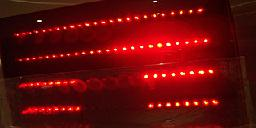LED: (132, 38, 218, 52), (12, 79, 87, 92), (144, 68, 220, 78)
